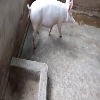heo: (24, 1, 82, 50)
